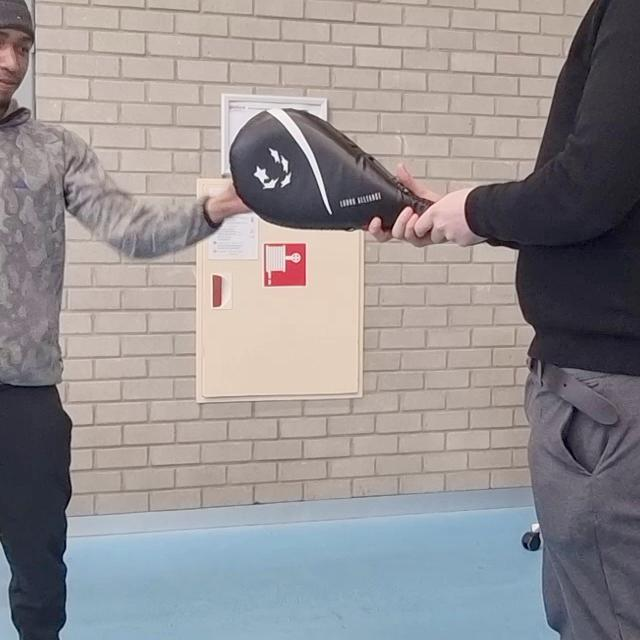paddle: (230, 108, 441, 231)
